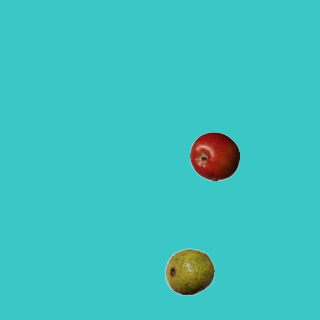Apple Braeburn: (189, 131, 239, 181)
Guava: (164, 246, 214, 296)
